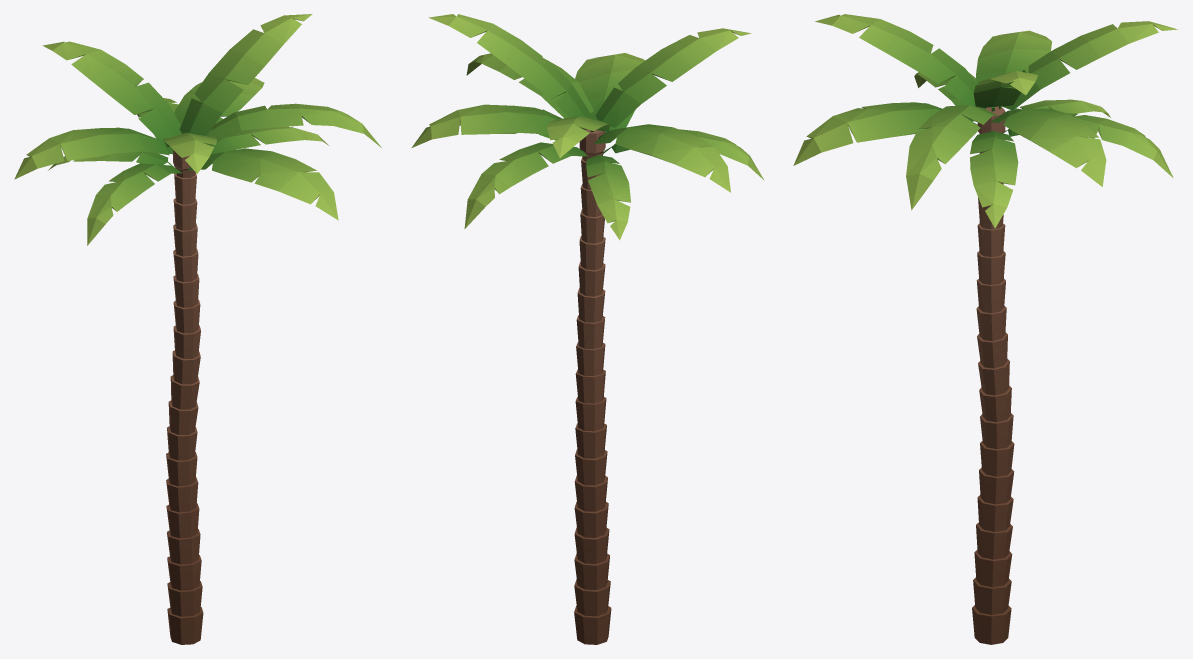
The model's file is PalmTree_02.fbx.
The picture shows the model from 3 angles, left to right: view 1: azimuth 30°, elevation 25°; view 2: azimuth 150°, elevation 25°; view 3: azimuth 270°, elevation 25°; orthographic projection. The views are drawn at different scales.
Visible parts, largest first — view 1: PalmTree_02_LOD0; view 2: PalmTree_02_LOD0; view 3: PalmTree_02_LOD0.
Boxes of the visible parts, x1,y1,x2,y2 form: PalmTree_02_LOD0: [14, 14, 381, 644]; PalmTree_02_LOD0: [411, 14, 764, 644]; PalmTree_02_LOD0: [793, 14, 1177, 644].
Size of what is drawn, in the model's own units: 299 by 533 by 299.
